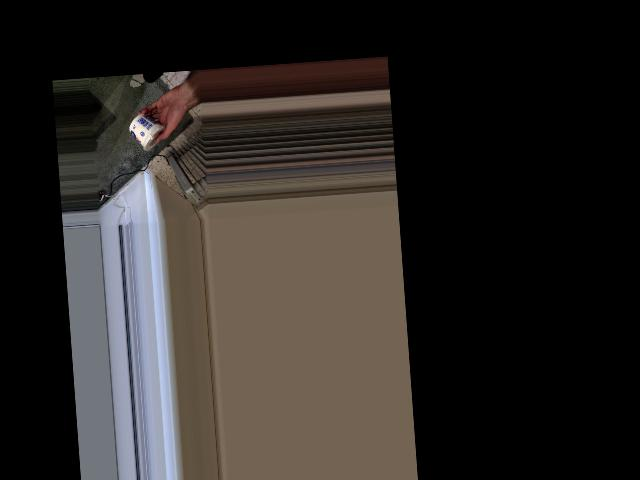cotage: (127, 110, 167, 153)
